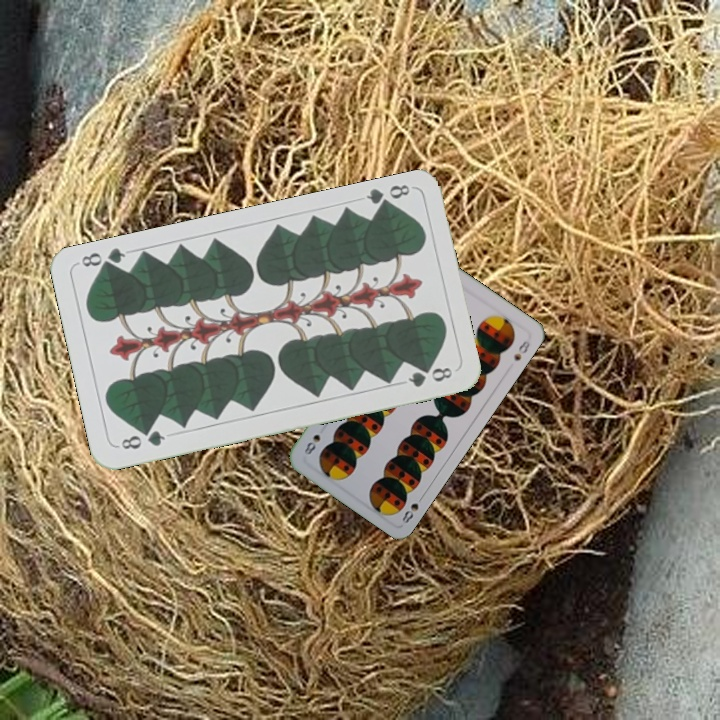G8: (362, 180, 412, 213), (114, 426, 168, 452)
S8: (398, 490, 427, 526)
